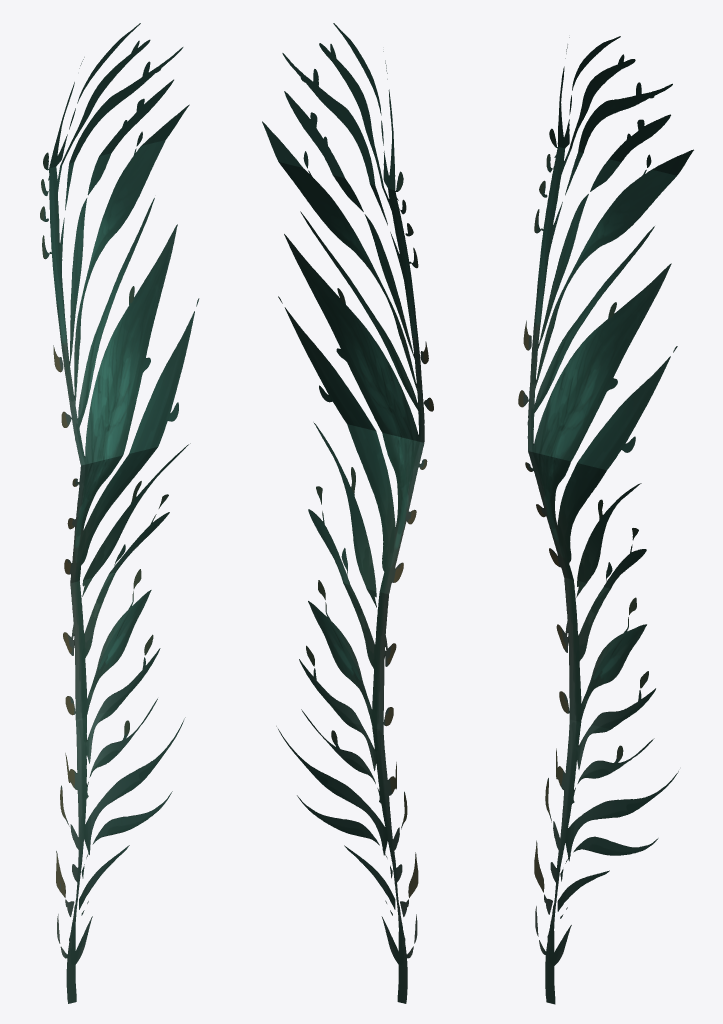
The model's file is Kelp1.fbx.
3 renders of one model, left to right at view 1: azimuth 30°, elevation 25°; view 2: azimuth 150°, elevation 25°; view 3: azimuth 330°, elevation 25°, orthographic. The views are drawn at different scales.
Parts seen in each view (by area): view 1: Kelp 1; view 2: Kelp 1; view 3: Kelp 1.
Part boxes in pixels (<box>): Kelp 1: <box>40,23,199,1003</box>; Kelp 1: <box>262,23,433,1003</box>; Kelp 1: <box>518,36,693,1004</box>.
Bounding box in the file's own units: 204 × 967 × 55.54.
1 material, 1 textured.
